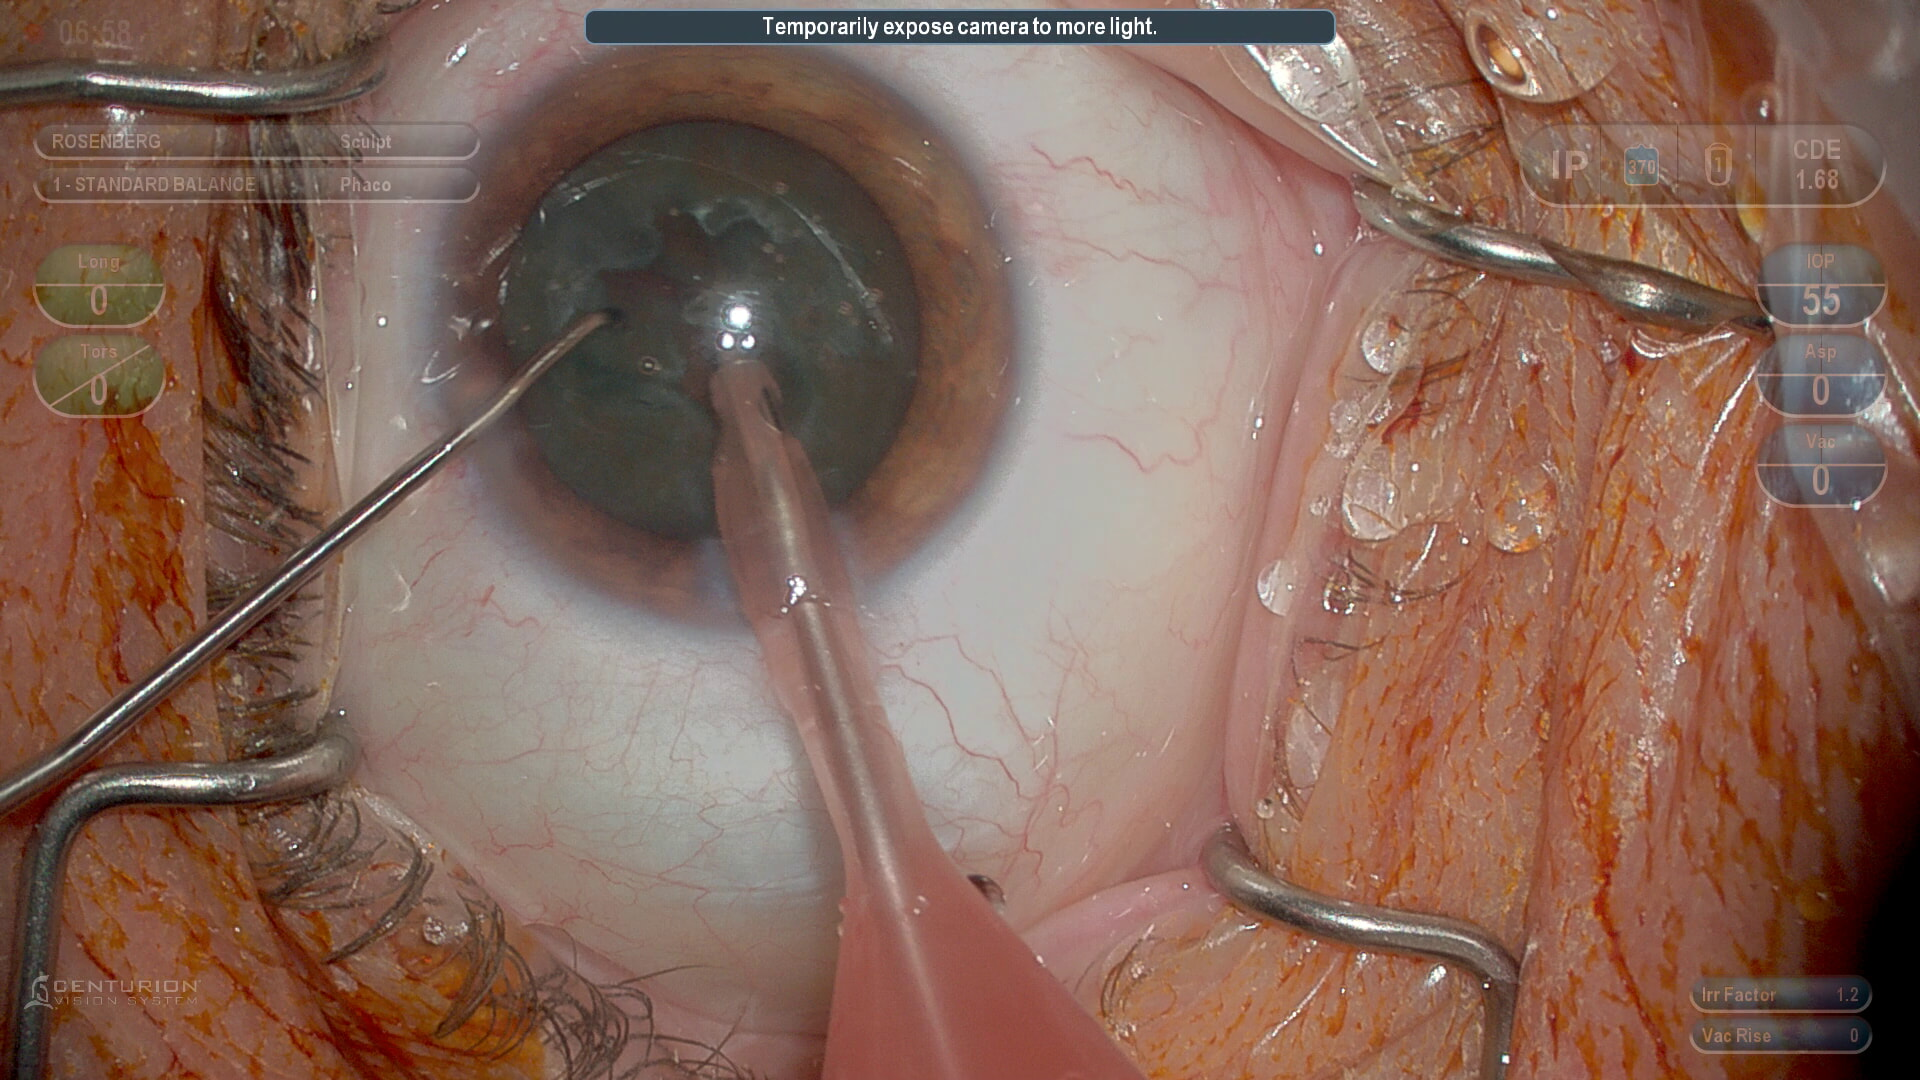iris: (452, 61, 1015, 617)
pupil: (493, 114, 910, 556)
